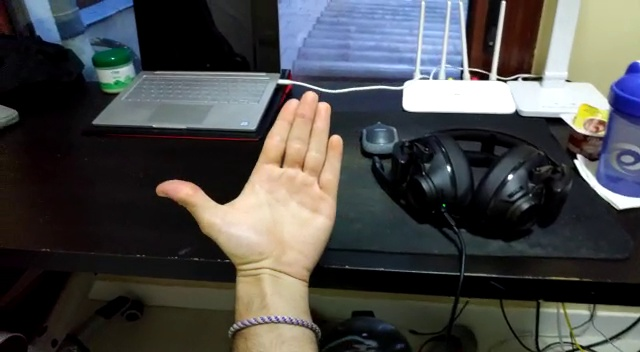Palm: (153, 88, 343, 296)
